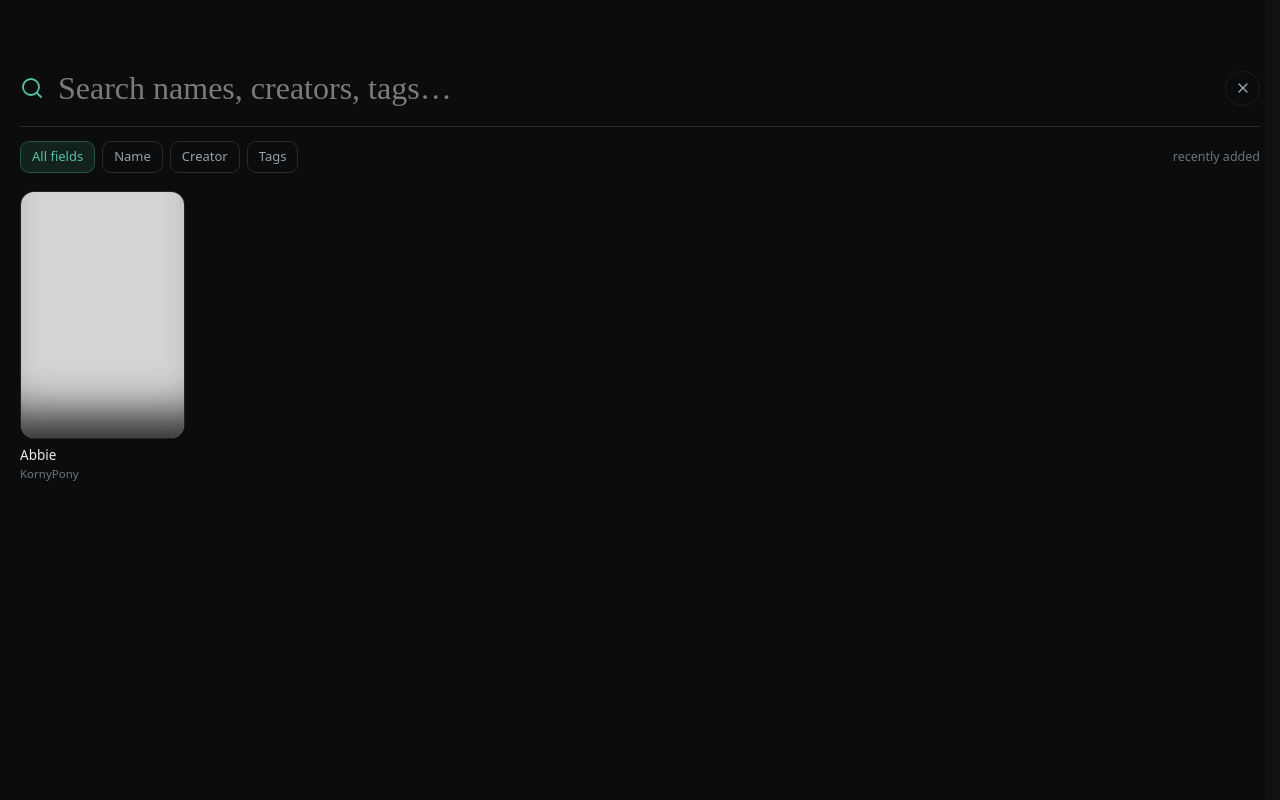
Test case: SearchOverlay › reports the size of the whole match, not the page it shows
This screenshot has width=1280, height=800.
Type "a" into the field named "Search query" at [634, 88], box [58,64,1211,112]
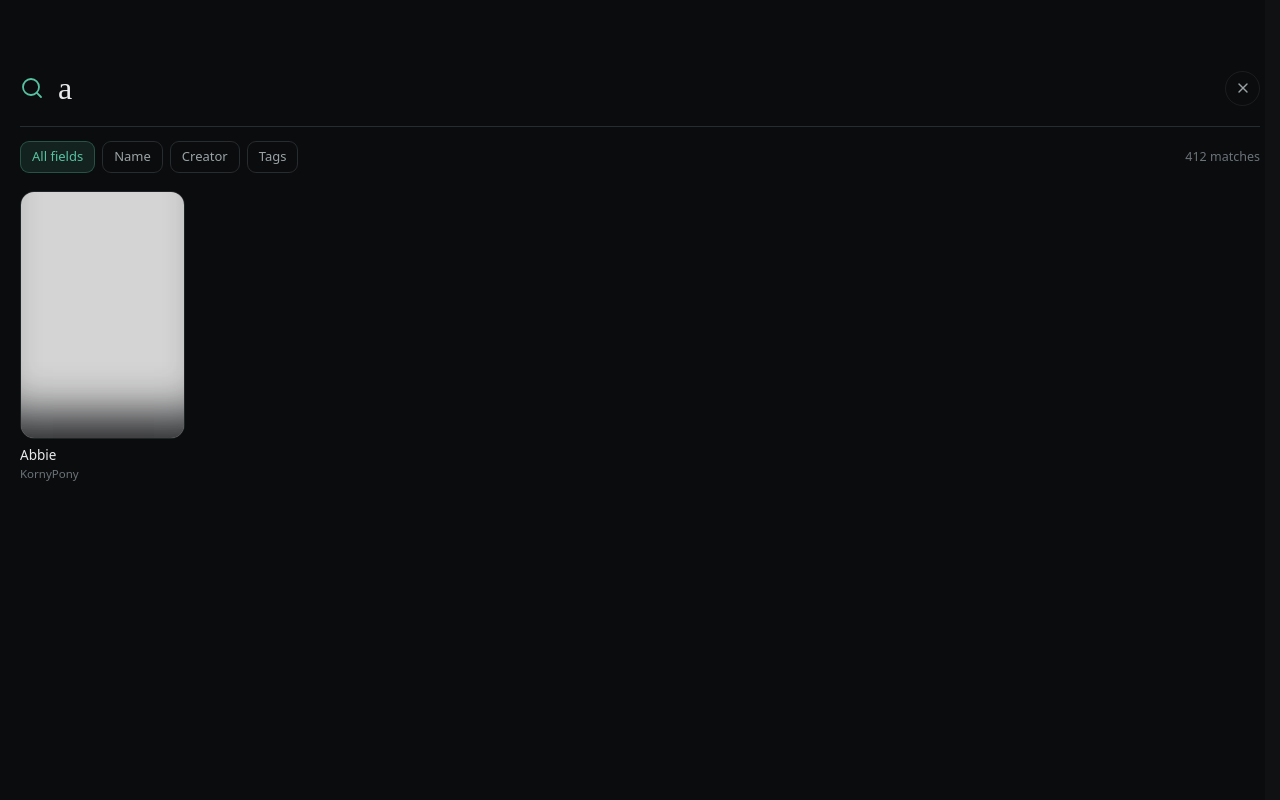
Now the text "412 matches" is shown, box [1185,148,1260,166]
